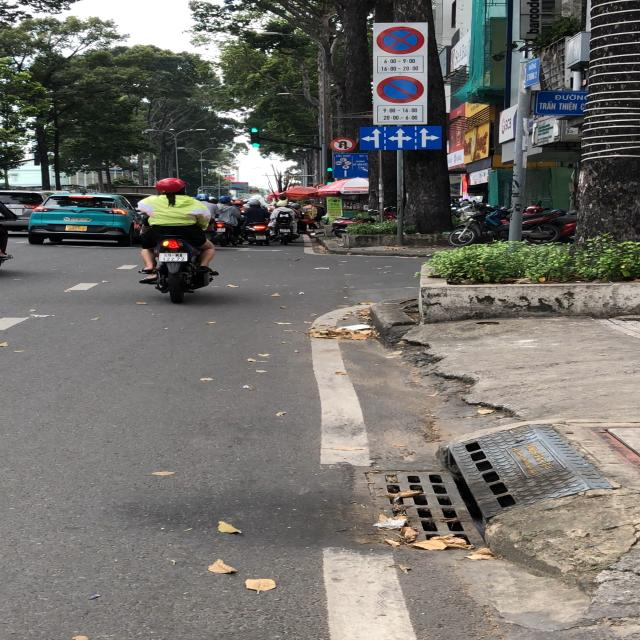Bien bao cam do xe: (373, 75, 430, 107)
Bien bao cam dung xe va do xe: (375, 26, 427, 56)
Bien bao cam quay dau xe: (328, 136, 358, 154)
